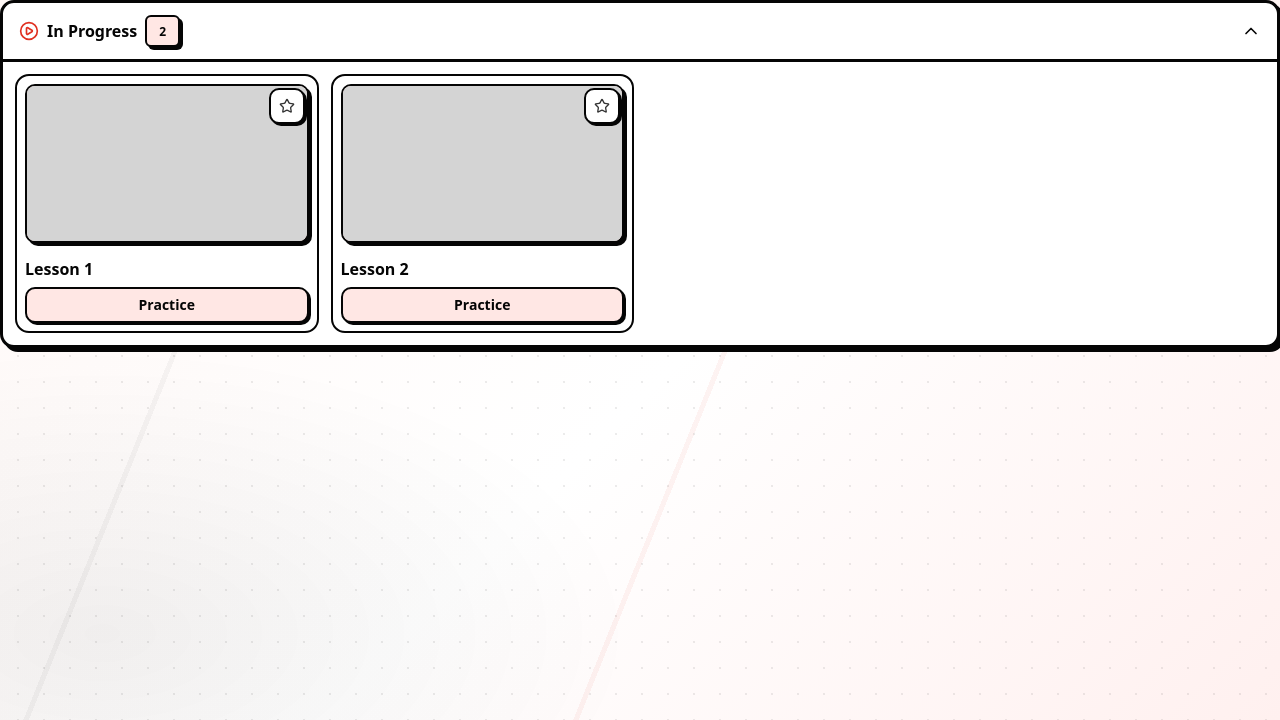
Test: InProgressSection › starts open and collapses on click
The width and height of the screenshot is (1280, 720).
Expected: the text "Lesson 2" is shown, [340,258,409,280]
Click the button "In Progress 2".
click(92, 31)  # box [3,3,1277,59]
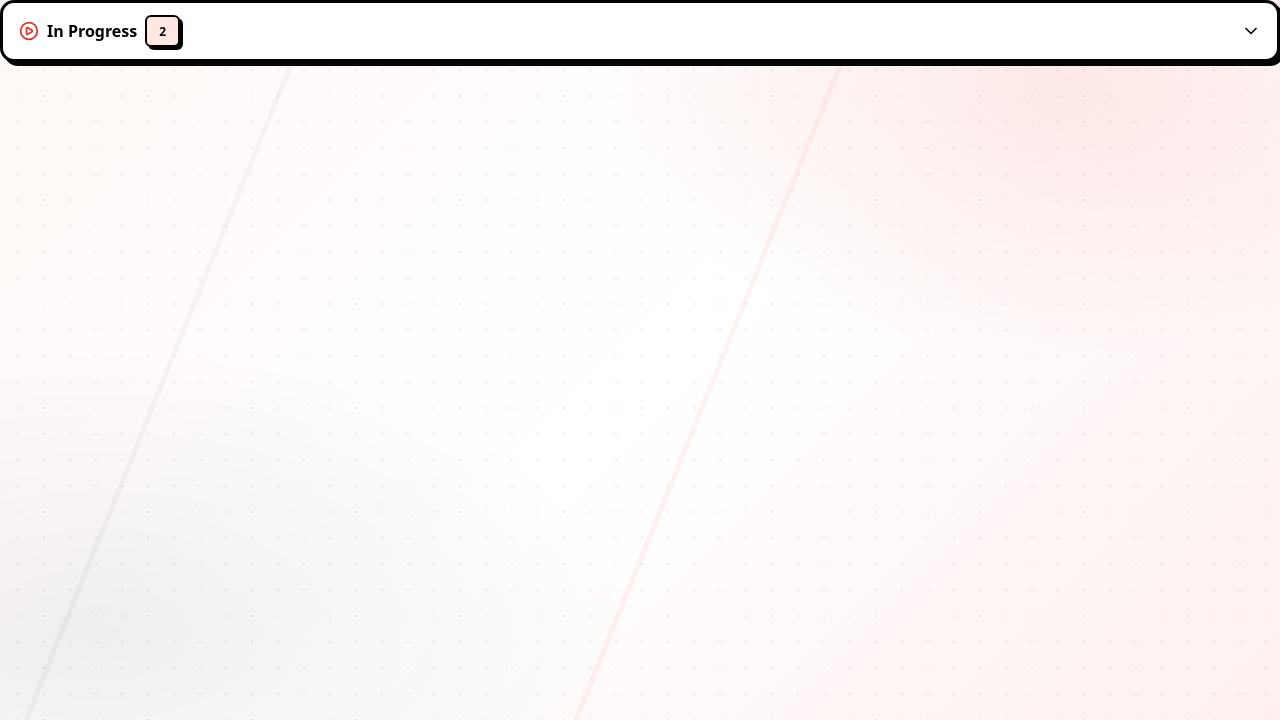
Result: the text "Lesson 2" is gone
